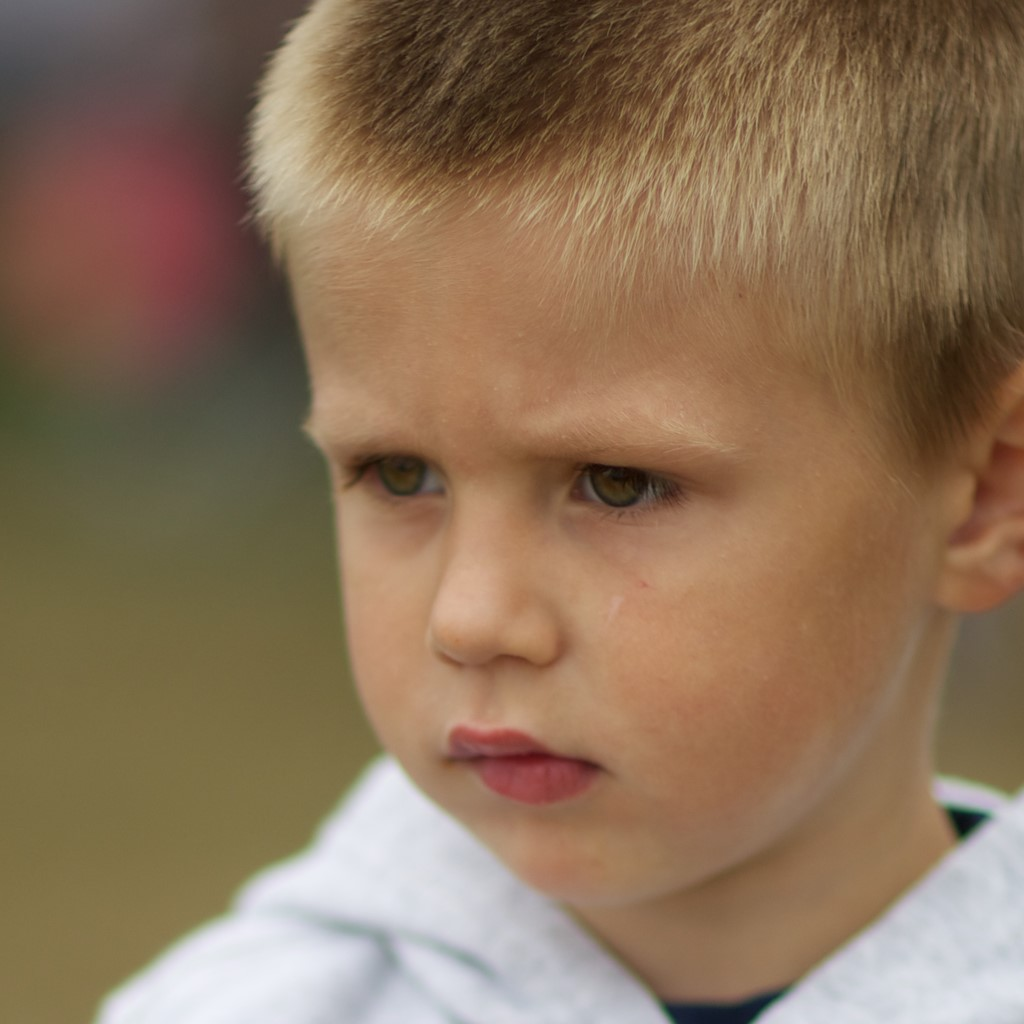sin_mascara: (279, 48, 974, 905)
